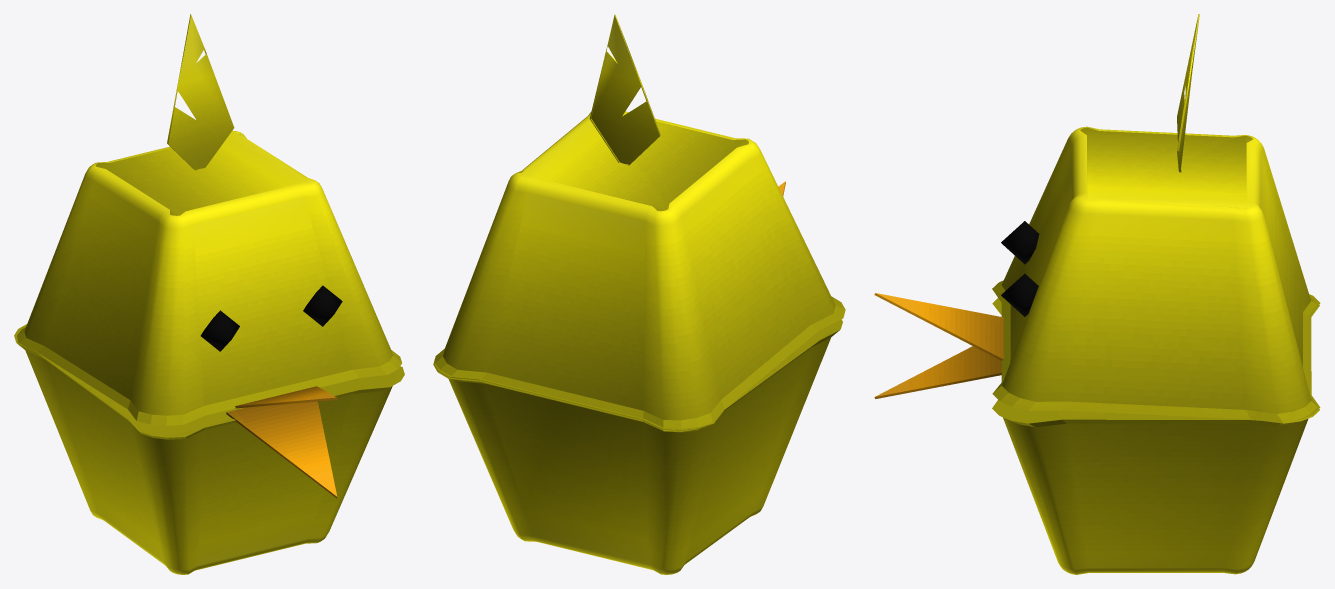
The model's file is Chick.FBX.
The picture shows the model from 3 angles, left to right: view 1: azimuth 30°, elevation 25°; view 2: azimuth 150°, elevation 25°; view 3: azimuth 270°, elevation 25°; orthographic projection. The views are drawn at different scales.
Visible parts, largest first — view 1: Box001, Box002, Plane007, Plane006, Plane005, Sphere001, Sphere002; view 2: Box001, Box002, Plane007; view 3: Box001, Box002, Plane005, Plane006, Plane007, Sphere001, Sphere002.
Part boxes in pixels (x1,y1,x2,y2): Box001: (17, 130, 401, 425); Box002: (14, 324, 404, 574); Plane007: (167, 14, 234, 170); Plane006: (226, 401, 337, 498); Plane005: (235, 386, 337, 408); Sphere001: (200, 310, 239, 351); Sphere002: (303, 285, 342, 326); Box001: (433, 111, 845, 431); Box002: (434, 319, 842, 574); Plane007: (589, 14, 660, 165); Box001: (992, 126, 1319, 423); Box002: (992, 294, 1320, 574); Plane005: (874, 293, 1003, 360); Plane006: (874, 346, 1001, 398); Plane007: (1177, 14, 1199, 172); Sphere001: (1001, 221, 1039, 264); Sphere002: (1001, 273, 1038, 316).
Bounding box in the file's own units: 6.97 × 12.48 × 9.62.
1 material, 1 textured.
